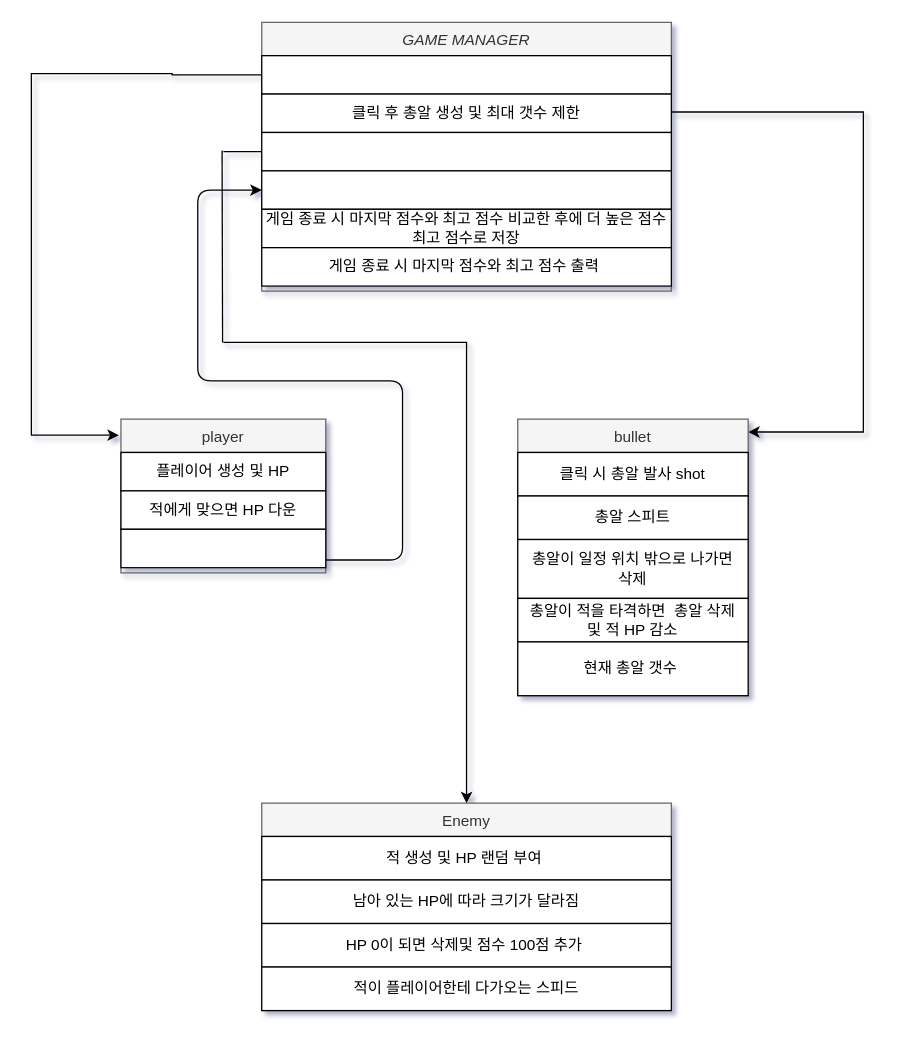
This 904x1041 diagram has some shape labels left out. The shapes that lost their labels are listed below. From the top down, each one's centre as x and y in pixels, then its label:
the point at 465,74: 게임 시작
the point at 465,151: 랜덤힌 위치의 적 반복 생성
the point at 465,189: 게임 종료
the point at 223,548: HP가 0이 되면 게임 종료
